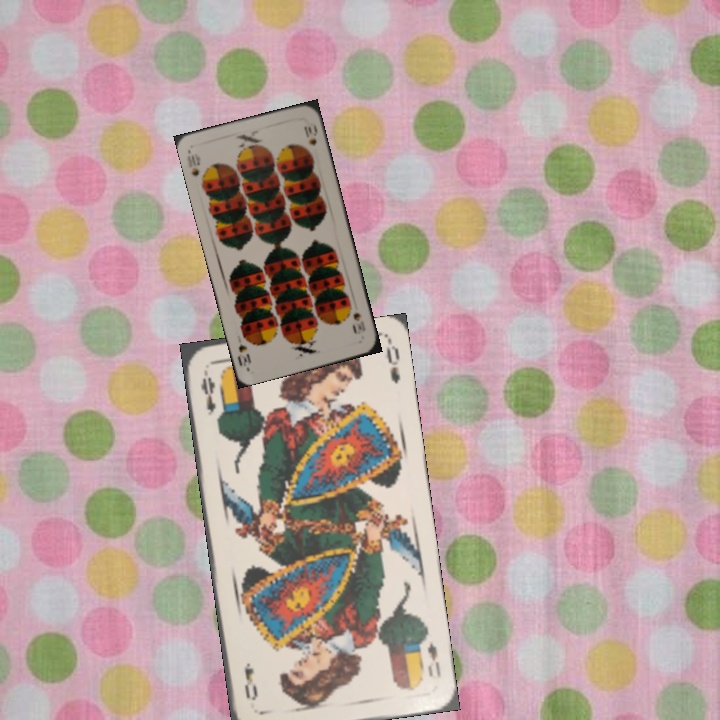EO: (196, 365, 218, 418), (423, 637, 444, 680)
S10: (346, 301, 368, 335), (182, 147, 203, 180)
